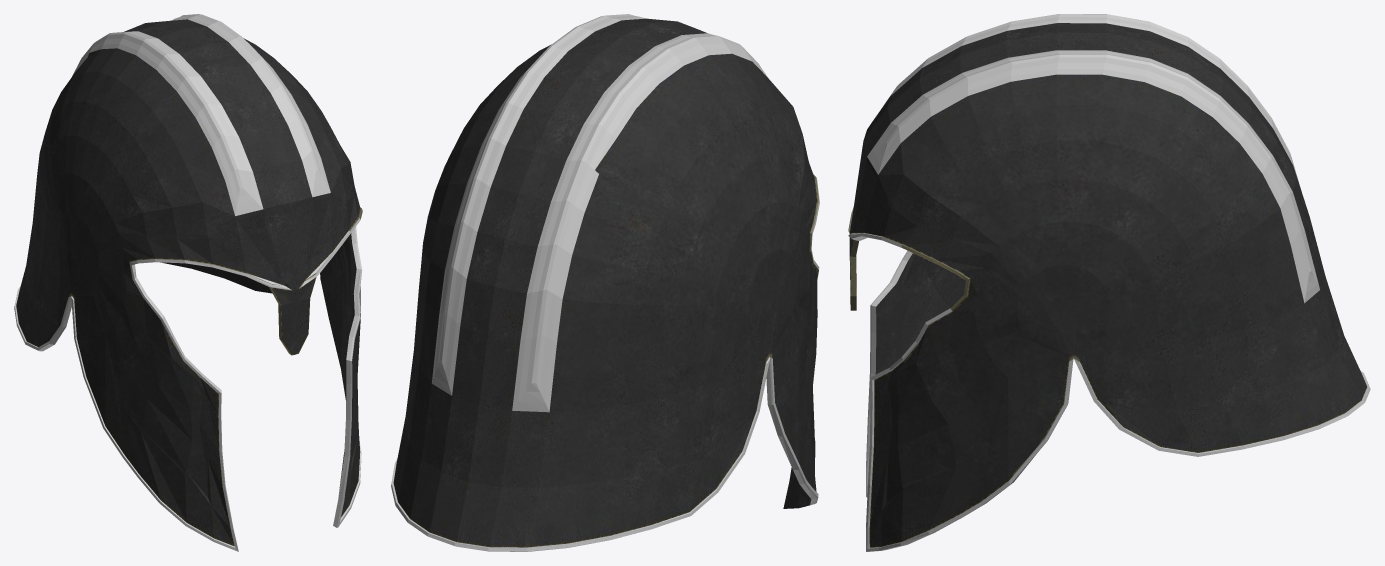
Rendered from HelmetWithTrim.fbx.
The picture shows the model from 3 angles, left to right: view 1: azimuth 30°, elevation 25°; view 2: azimuth 150°, elevation 25°; view 3: azimuth 270°, elevation 25°; orthographic projection. The views are drawn at different scales.
Visible parts, largest first — view 1: Helmet, Trim; view 2: Helmet, Trim; view 3: Helmet, Trim.
Part boxes in pixels (box(x1,y1,x2,y2)): Helmet: box(16, 19, 362, 546); Trim: box(14, 14, 362, 551); Helmet: box(393, 18, 818, 547); Trim: box(391, 14, 819, 551); Helmet: box(848, 23, 1367, 547); Trim: box(848, 14, 1370, 551).
Size of the model in its own units: 0.8708 by 1.43 by 1.38.
Materials: 2 (1 with a texture image).
